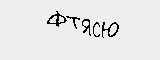С: (91, 19, 101, 38)
Т: (66, 14, 80, 29)
Ф: (44, 9, 64, 29)
Ю: (98, 19, 122, 39)
Я: (80, 17, 93, 39)
